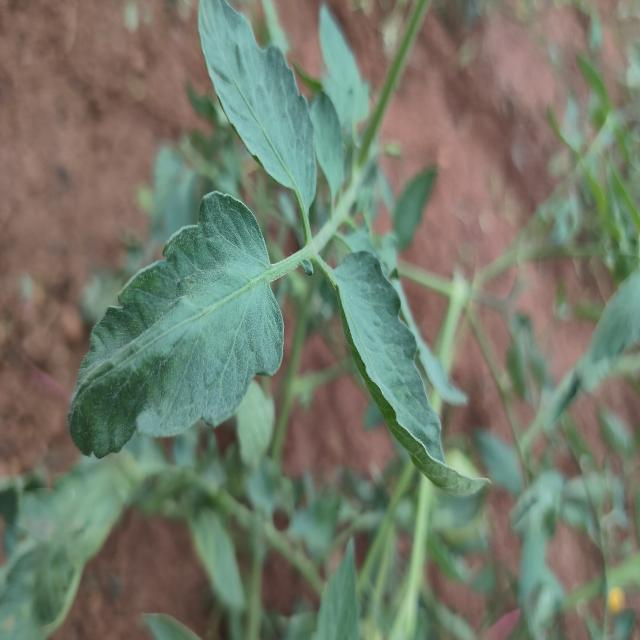tomato_healthy: (68, 191, 284, 457), (314, 250, 487, 496), (198, 0, 317, 243)
